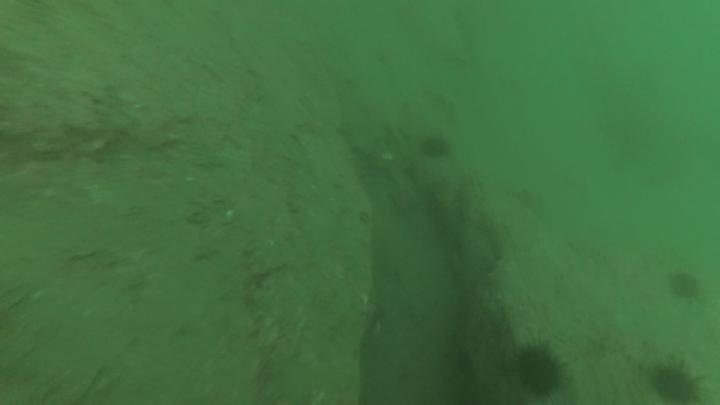echinus: (515, 338, 566, 402), (647, 357, 705, 405), (667, 267, 705, 305), (417, 131, 455, 163)
